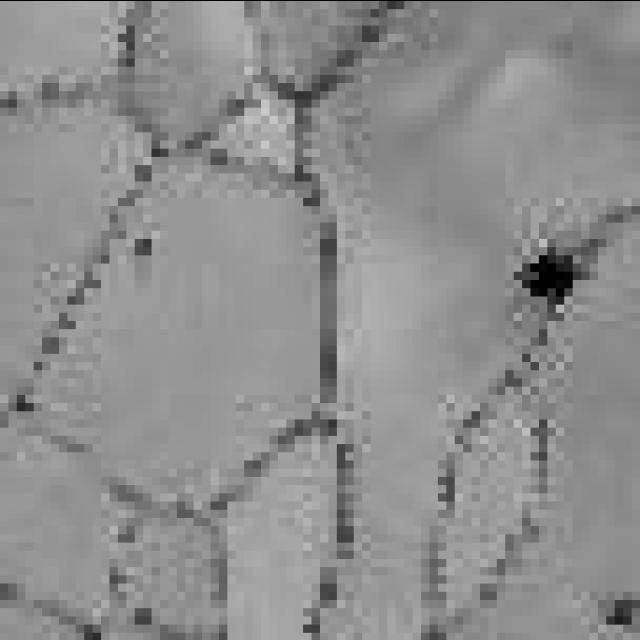good_void: (502, 229, 591, 313), (595, 590, 639, 632), (129, 222, 163, 272)
